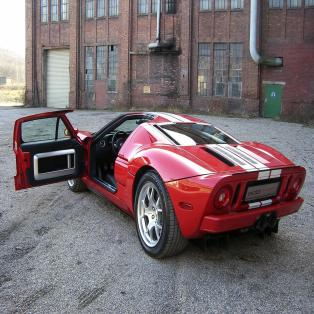Auto: (10, 108, 308, 260)
